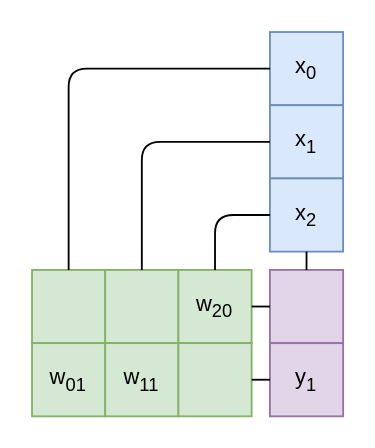
Some shapes in this 375 by 448 pixel diagram are drawn without their labels. The shapes that lost their labels are listed below. From the top down, each one's centre as x and y in pixels, then its label:
At point (67, 305): "w 00".
At point (140, 305): "w 10".
At point (305, 305): "y 0".
At point (214, 378): "w 21".
